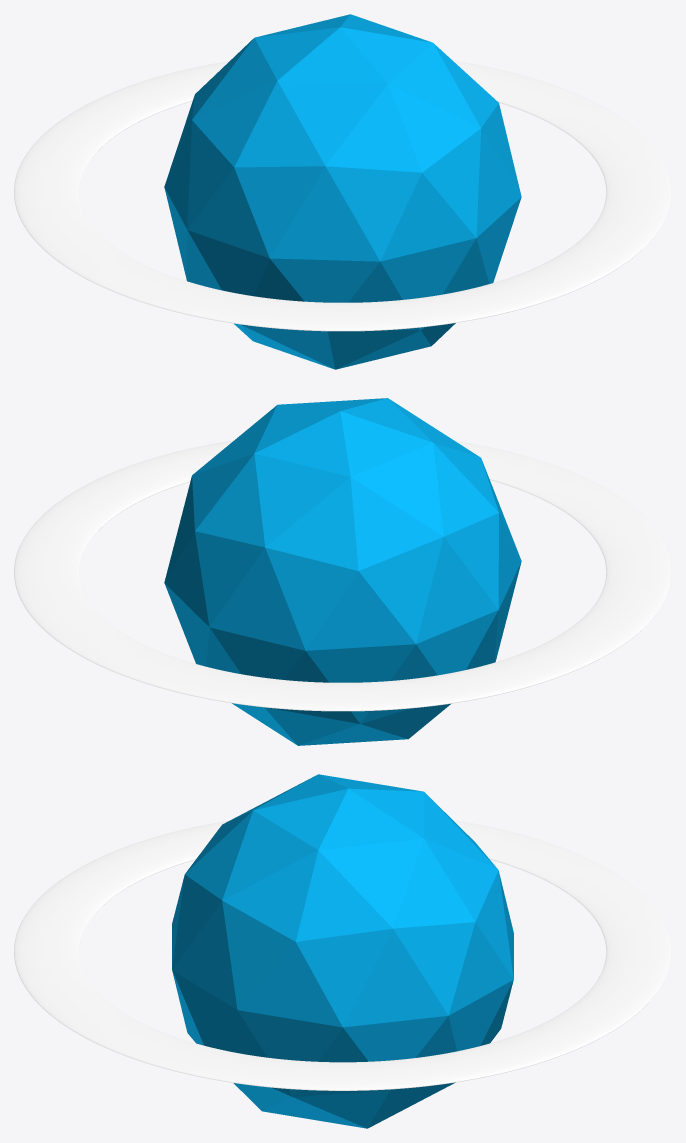
The model's file is assembly.glb.
The picture shows the model from 3 angles, top to bottom: view 1: azimuth 30°, elevation 25°; view 2: azimuth 150°, elevation 25°; view 3: azimuth 270°, elevation 25°; orthographic projection.
Parts seen in each view (by area): view 1: Icosahedron, Torus 1; view 2: Icosahedron, Torus 1; view 3: Icosahedron, Torus 1.
Part boxes in pixels (x1=…): Icosahedron: x1=164, y1=14, x2=521, y2=369; Torus 1: x1=14, y1=60, x2=671, y2=331; Icosahedron: x1=164, y1=398, x2=521, y2=745; Torus 1: x1=14, y1=440, x2=671, y2=711; Icosahedron: x1=172, y1=774, x2=513, y2=1128; Torus 1: x1=14, y1=820, x2=671, y2=1090.
Bounding box in the file's own units: 1.83 × 0.9996 × 1.83.
